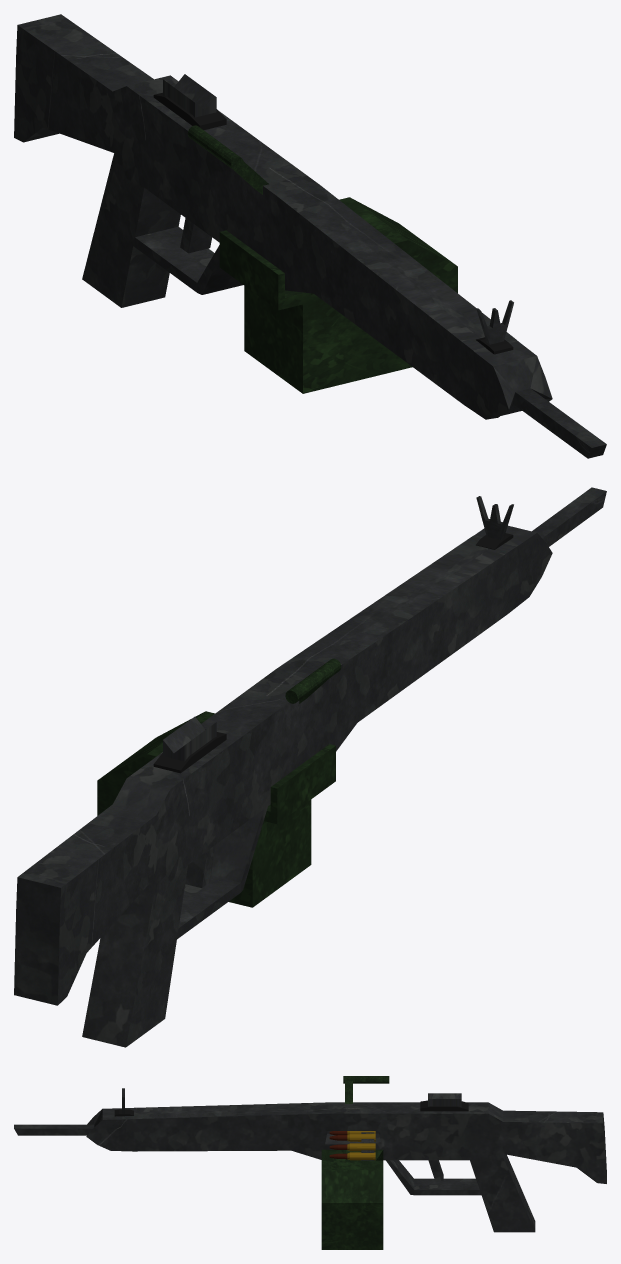
Rendered from MachineGun.obj.
3 views of the same model, one above another, from view 1: azimuth 30°, elevation 25°; view 2: azimuth 150°, elevation 25°; view 3: azimuth 270°, elevation 25° (orthographic). The views are drawn at different scales.
Parts seen in each view (by area): view 1: Pistol_Cube, Cube_Cube.001, Cylinder_Cylinder.006, Cube.005_Cube.006; view 2: Pistol_Cube, Cube_Cube.001, Cylinder_Cylinder.006, Cube.005_Cube.006; view 3: Pistol_Cube, Cube_Cube.001, Cube.005_Cube.006, Cylinder_Cylinder.006, Cylinder.005, Cylinder.003, Cylinder.002.
Part boxes in pixels (<box>): Pistol_Cube: <box>14,14,606,458</box>; Cube_Cube.001: <box>219,197,457,393</box>; Cylinder_Cylinder.006: <box>187,125,243,170</box>; Cube.005_Cube.006: <box>153,92,226,129</box>; Pistol_Cube: <box>14,487,606,1047</box>; Cube_Cube.001: <box>97,711,335,907</box>; Cylinder_Cylinder.006: <box>285,658,341,703</box>; Cube.005_Cube.006: <box>153,729,226,773</box>; Pistol_Cube: <box>14,1088,606,1232</box>; Cube_Cube.001: <box>321,1149,383,1249</box>; Cube.005_Cube.006: <box>420,1100,468,1111</box>; Cylinder_Cylinder.006: <box>343,1076,389,1083</box>; Cylinder.005: <box>329,1143,375,1151</box>; Cylinder.003: <box>329,1152,375,1160</box>; Cylinder.002: <box>329,1133,375,1141</box>.
Size of the model in its own units: 0.4924 by 0.5982 by 2.33.
Materials: 5 (2 with a texture image).
